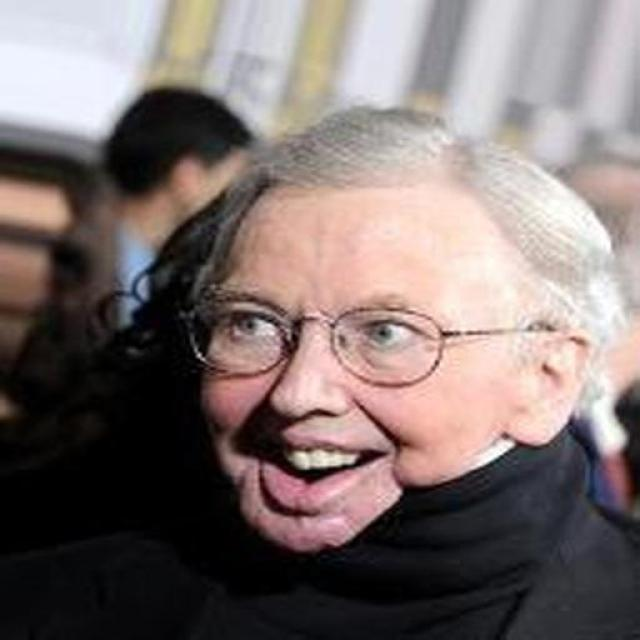bareface: (197, 152, 574, 536)
